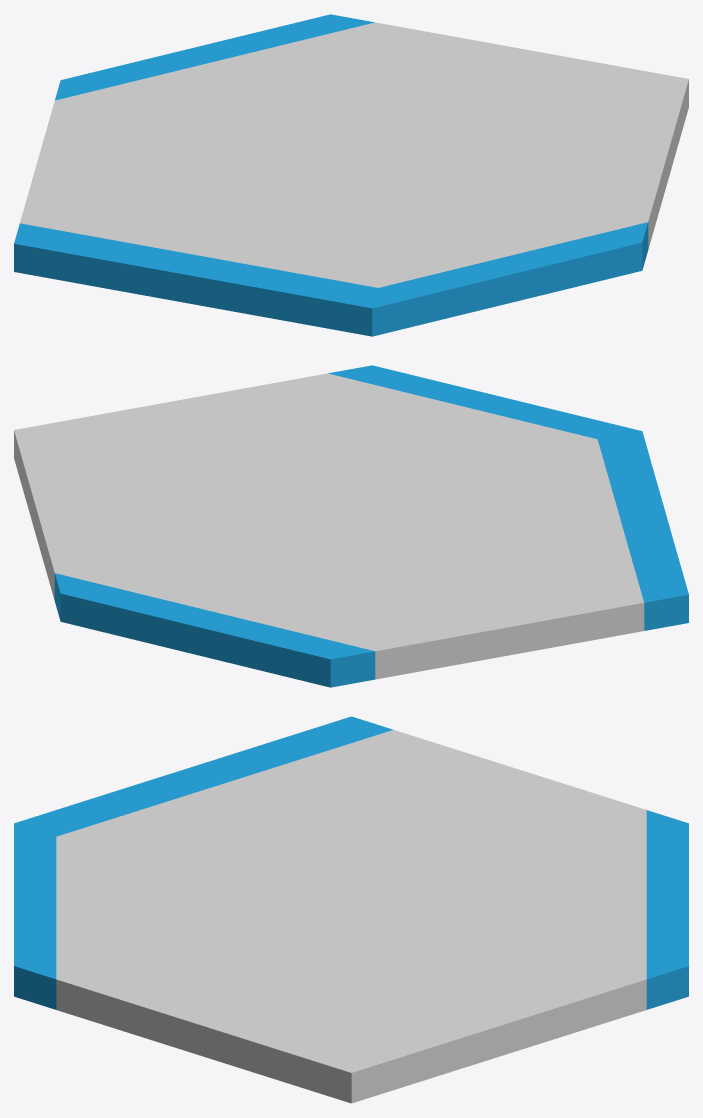
3 renders of one model, top to bottom at view 1: azimuth 30°, elevation 25°; view 2: azimuth 150°, elevation 25°; view 3: azimuth 270°, elevation 25°, orthographic. The views are drawn at different scales.
Visible parts, largest first — view 1: Hexagon, SW.001, S.001, N.001; view 2: Hexagon, N.001, SW.001, S.001; view 3: Hexagon, SW.001, N.001, S.001.
Part boxes in pixels (<box>): Hexagon: <box>20,22,688,287</box>; SW.001: <box>14,223,377,336</box>; S.001: <box>372,222,648,336</box>; N.001: <box>55,14,374,100</box>; Hexagon: <box>14,373,644,679</box>; N.001: <box>54,573,375,687</box>; SW.001: <box>597,431,688,630</box>; S.001: <box>328,365,641,439</box>; Hexagon: <box>56,730,646,1103</box>; SW.001: <box>14,716,393,836</box>; N.001: <box>646,810,688,1009</box>; S.001: <box>14,823,56,1009</box>.
Bounding box in the file's own units: 5 × 4 × 0.2.
